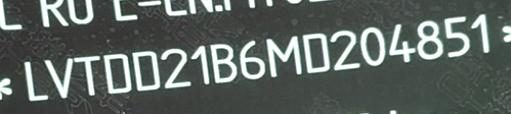letter: (265, 33, 303, 77), (328, 28, 360, 73), (43, 55, 75, 100), (130, 48, 162, 92), (160, 46, 191, 90), (442, 13, 472, 57), (414, 18, 444, 62), (300, 31, 331, 73), (102, 52, 133, 94), (73, 53, 103, 96), (238, 38, 267, 82), (387, 22, 416, 65), (358, 25, 387, 67), (209, 42, 238, 84), (21, 58, 49, 101), (469, 12, 494, 55), (189, 43, 211, 87)
